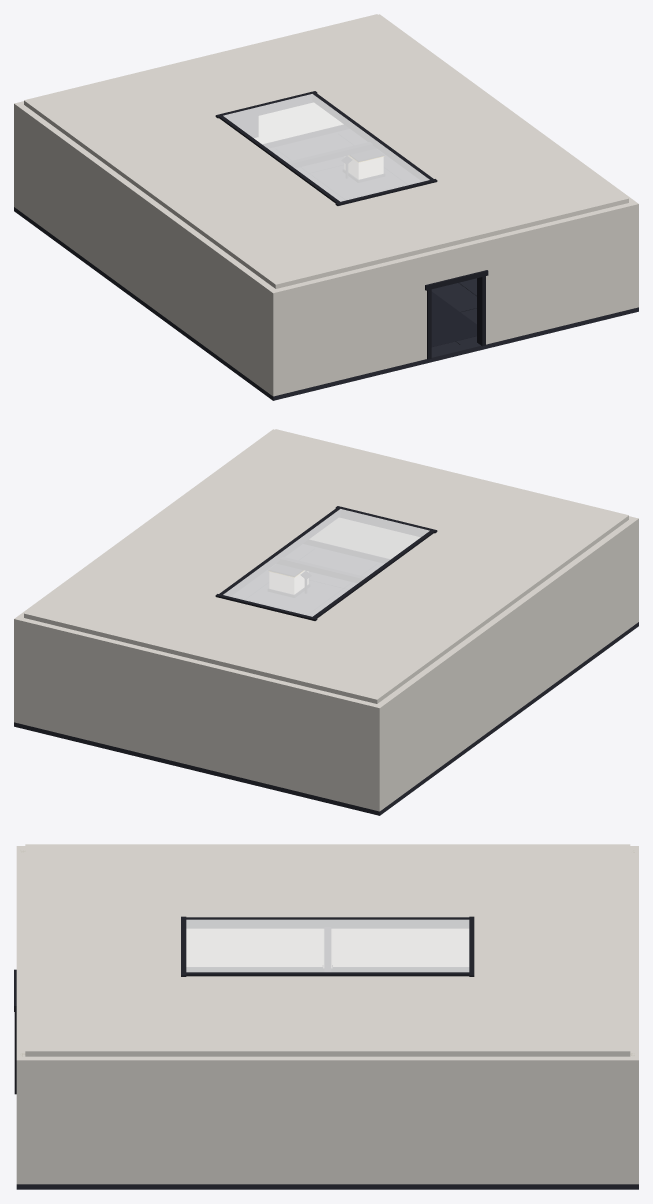
The model's file is sala_museo.glb.
The picture shows the model from 3 angles, top to bottom: view 1: azimuth 30°, elevation 25°; view 2: azimuth 150°, elevation 25°; view 3: azimuth 270°, elevation 25°; orthographic projection. The views are drawn at different scales.
Parts seen in each view (by area): view 1: TechoLateralOeste, TechoLateralEste, MuroOeste, MuroSurIzquierdo, MuroSurDerecho, CristalTragaluz, LosaPisoPrincipal, TechoCabeceraSur, TechoCabeceraNorte, MuroFondoNorte, DintelEntradaSur, CorredorCentral (+7 smaller); view 2: MuroFondoNorte, TechoLateralOeste, TechoLateralEste, MuroOeste, CristalTragaluz, LosaPisoPrincipal, TechoCabeceraNorte, TechoCabeceraSur, MuroSurDerecho, MarcoTragaluzEste, MarcoTragaluzSur, MarcoTragaluzOeste (+3 smaller); view 3: MuroEste, TechoLateralEste, TechoLateralOeste, CristalTragaluz, MuroOeste, TechoCabeceraNorte, TechoCabeceraSur, LosaPisoPrincipal, MarcoTragaluzOeste, MuroFondoNorte, MuroSurDerecho, MarcoTragaluzEste (+2 smaller).
Part boxes in pixels (box(x1,y1,x2,y2)): TechoLateralOeste: box(24, 68, 405, 288); TechoLateralEste: box(247, 14, 628, 234); MuroOeste: box(17, 104, 275, 393); MuroSurIzquierdo: box(269, 253, 426, 396); MuroSurDerecho: box(482, 201, 638, 344); CristalTragaluz: box(223, 94, 429, 201); LosaPisoPrincipal: box(14, 129, 638, 400); TechoCabeceraSur: box(341, 182, 499, 257); TechoCabeceraNorte: box(154, 46, 309, 114); MuroFondoNorte: box(14, 14, 382, 208); DintelEntradaSur: box(424, 239, 485, 284); CorredorCentral: box(431, 291, 476, 346); MuroFondoNorte: box(14, 616, 383, 811); TechoLateralOeste: box(247, 483, 628, 703); TechoLateralEste: box(24, 429, 405, 649); MuroOeste: box(377, 519, 635, 808); CristalTragaluz: box(223, 509, 429, 616); LosaPisoPrincipal: box(14, 544, 638, 815); TechoCabeceraNorte: box(153, 597, 311, 672); TechoCabeceraSur: box(343, 461, 498, 529); MuroSurDerecho: box(270, 429, 419, 558); MarcoTragaluzEste: box(218, 507, 340, 596); MarcoTragaluzSur: box(335, 506, 437, 535); MarcoTragaluzOeste: box(312, 530, 434, 618); MuroEste: box(25, 1056, 630, 1184); TechoLateralEste: box(25, 975, 630, 1056); TechoLateralOeste: box(25, 844, 630, 920); CristalTragaluz: box(186, 919, 469, 972); MuroOeste: box(186, 929, 468, 966); TechoCabeceraNorte: box(474, 920, 630, 975); TechoCabeceraSur: box(25, 920, 180, 975); LosaPisoPrincipal: box(16, 1184, 638, 1189); MarcoTragaluzOeste: box(183, 917, 471, 928); MuroFondoNorte: box(630, 846, 638, 1184); MuroSurDerecho: box(16, 970, 25, 1184); MarcoTragaluzEste: box(183, 972, 471, 976).
Size of the model in its own units: 17.6 by 5.22 by 21.69.
